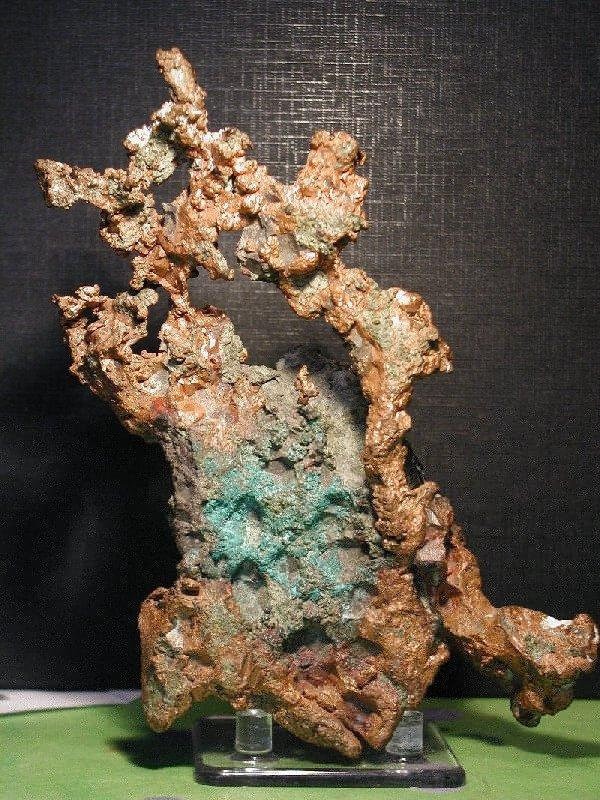copper: (38, 50, 598, 759)
